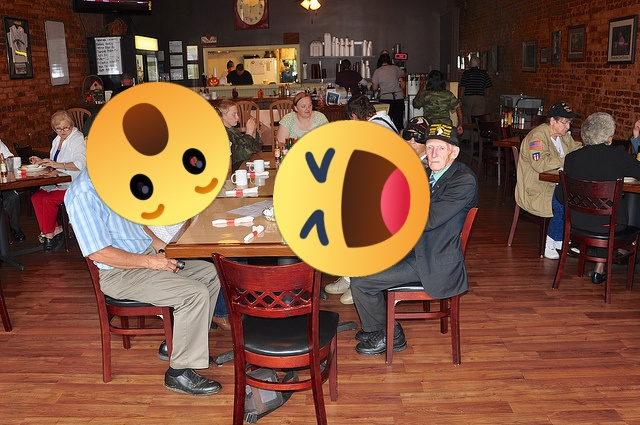haha: (273, 120, 430, 277)
wow: (86, 82, 230, 226)
